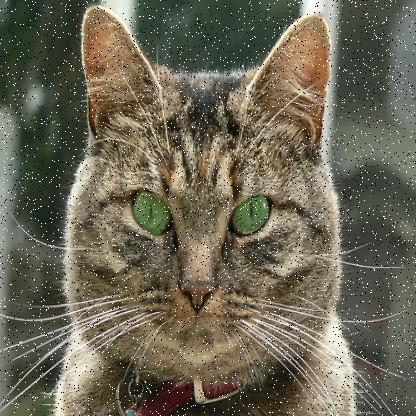cat: (52, 3, 366, 415)
